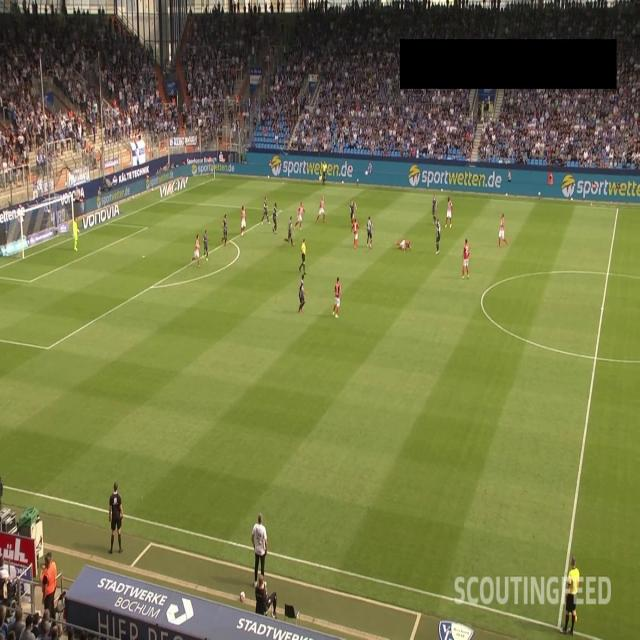ball: (364, 167, 368, 178)
player: (498, 209, 509, 249), (330, 275, 340, 318), (461, 234, 470, 279), (295, 199, 306, 233), (445, 193, 455, 229), (222, 210, 230, 249), (287, 213, 295, 250), (318, 193, 326, 227), (193, 233, 201, 267), (300, 273, 306, 317), (435, 213, 441, 255), (352, 218, 359, 252), (367, 213, 373, 250), (241, 202, 247, 236), (350, 199, 356, 229), (432, 194, 438, 223), (204, 228, 209, 262), (74, 216, 79, 250), (273, 202, 278, 232), (394, 242, 412, 249), (264, 194, 268, 222)
